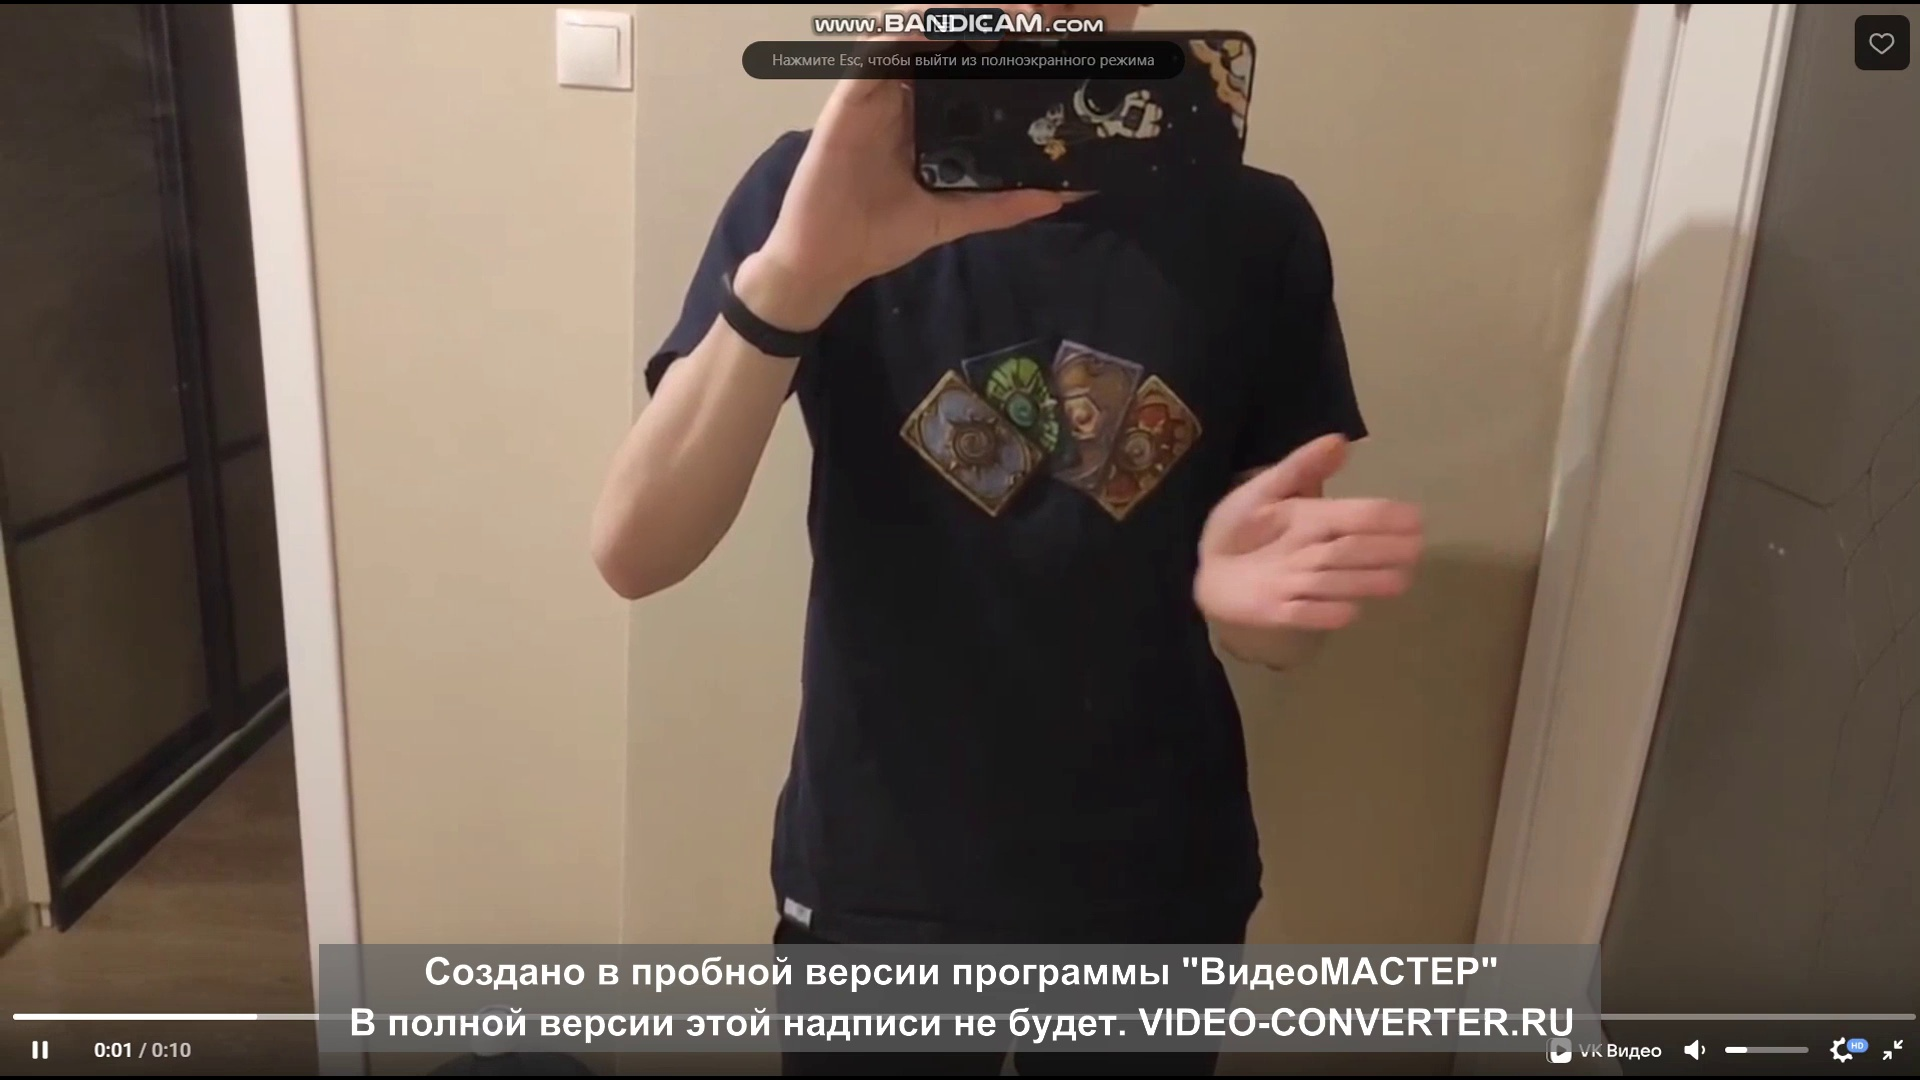Ладонь: (1193, 435, 1424, 628)
